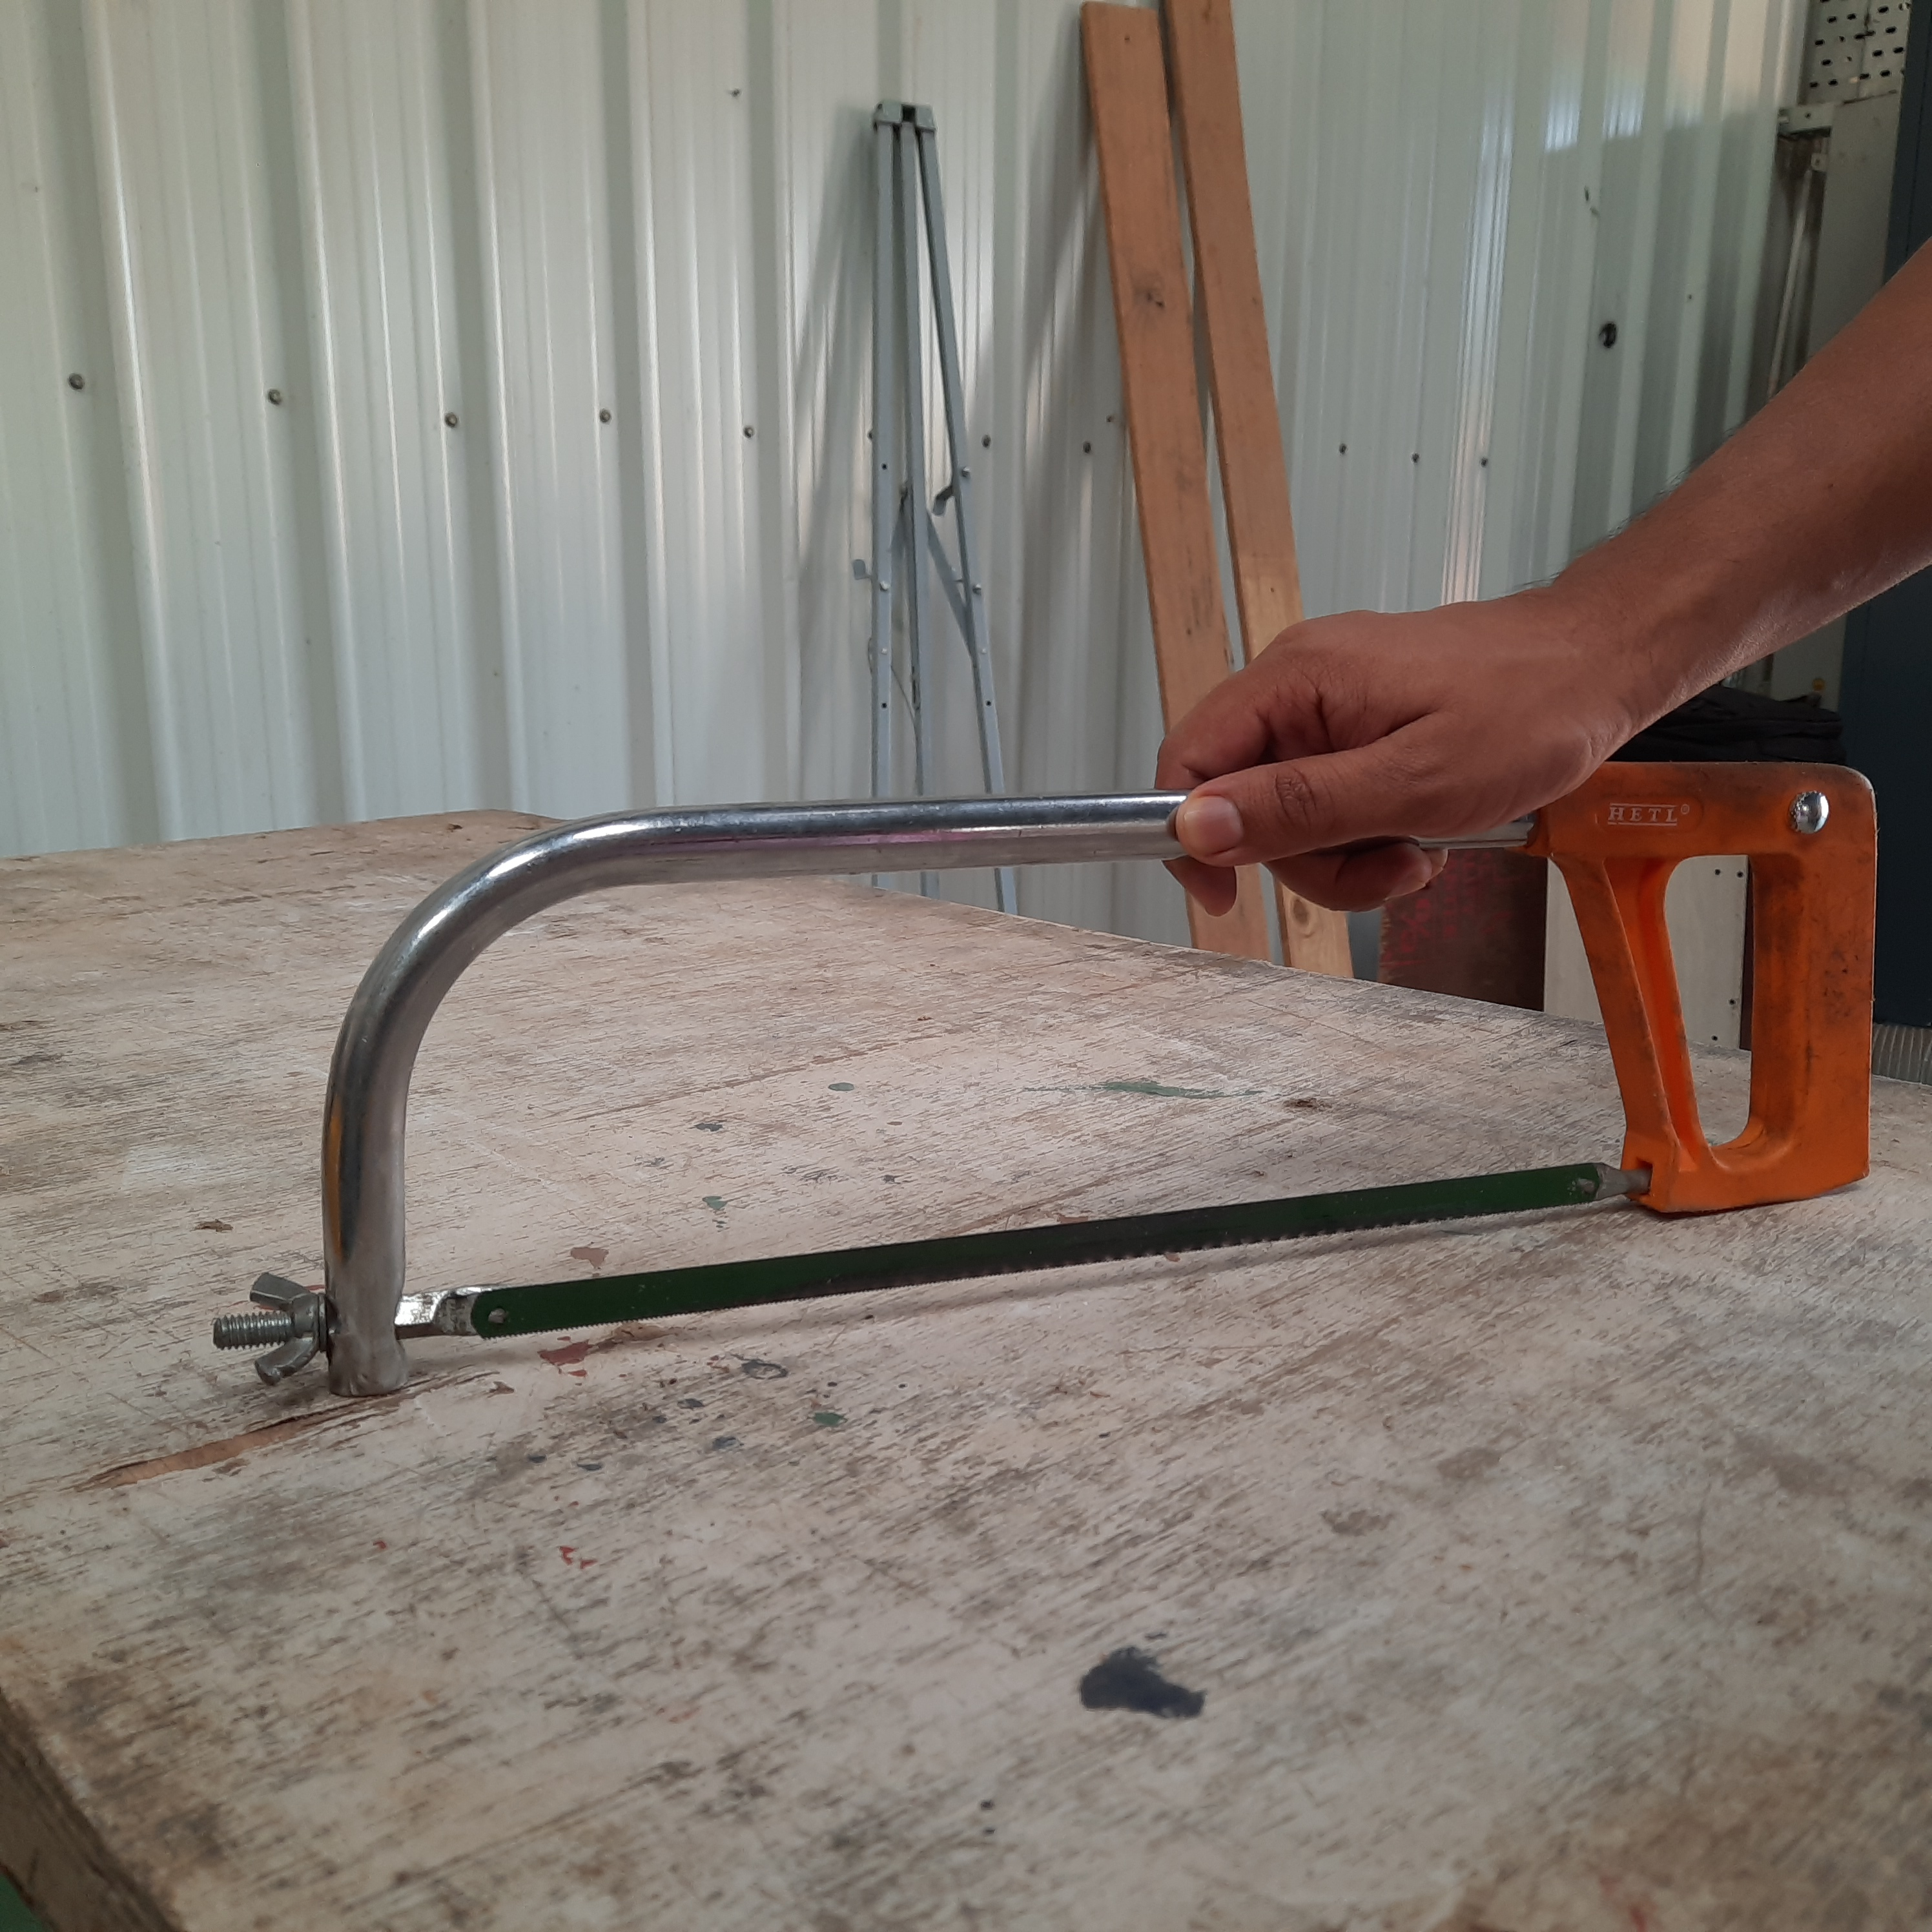Hexaframe: (193, 761, 1852, 1338)
